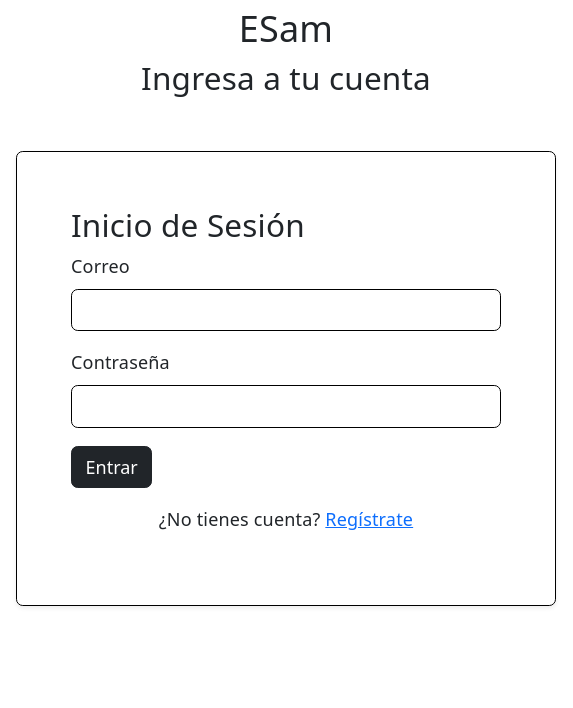
Login › Muestra el mensaje del error ante una falla genérica
This screenshot has width=573, height=708.
Type "ana@duoc.cl" into the field labelled "Correo".
click(286, 310); type("ana@duoc.cl")  # box [71,289,501,331]
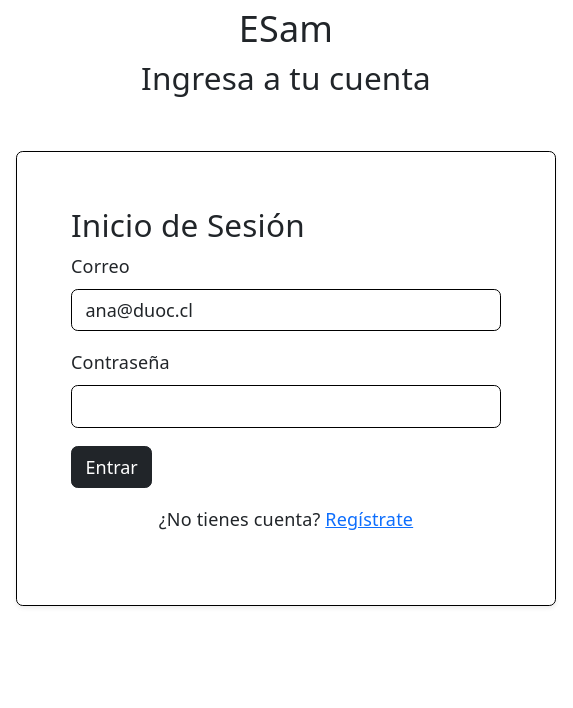
Type "clave-larga" into the password field labelled "Contraseña".
click(286, 407); type("clave-larga")  # box [71,385,501,428]
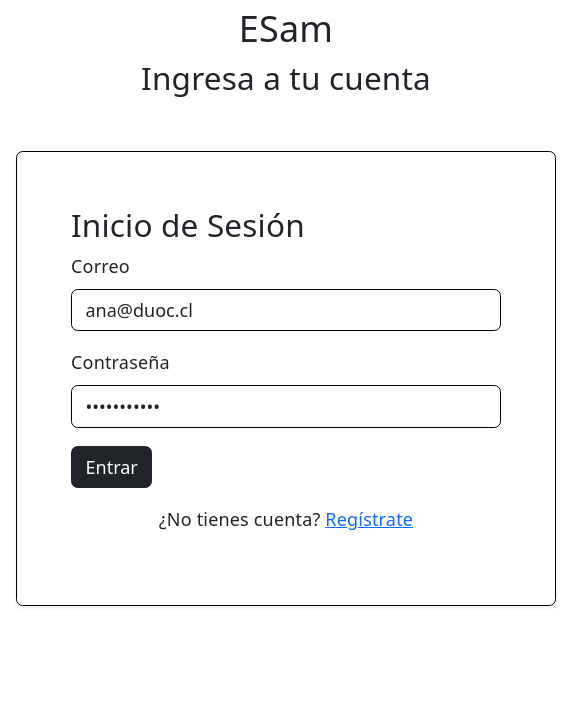
Click the button "Entrar".
click(112, 467)  # box [71,446,152,488]
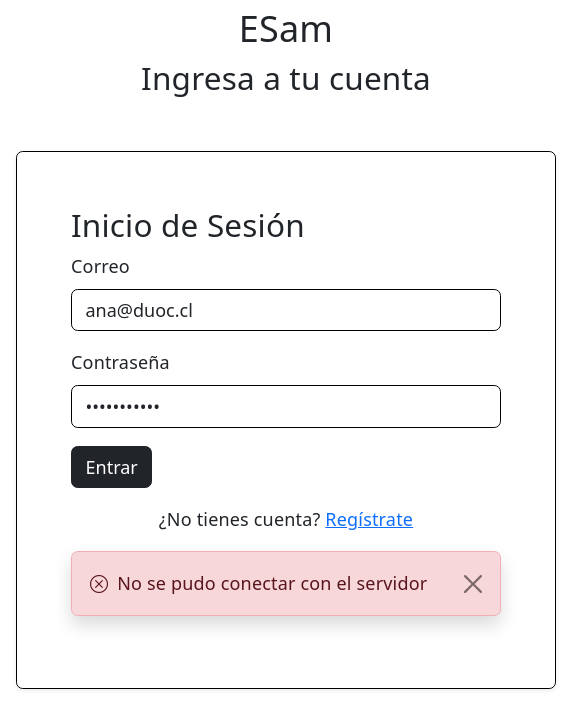
Now the text "No se pudo conectar con el servidor" is shown, box [117,570,427,597]
